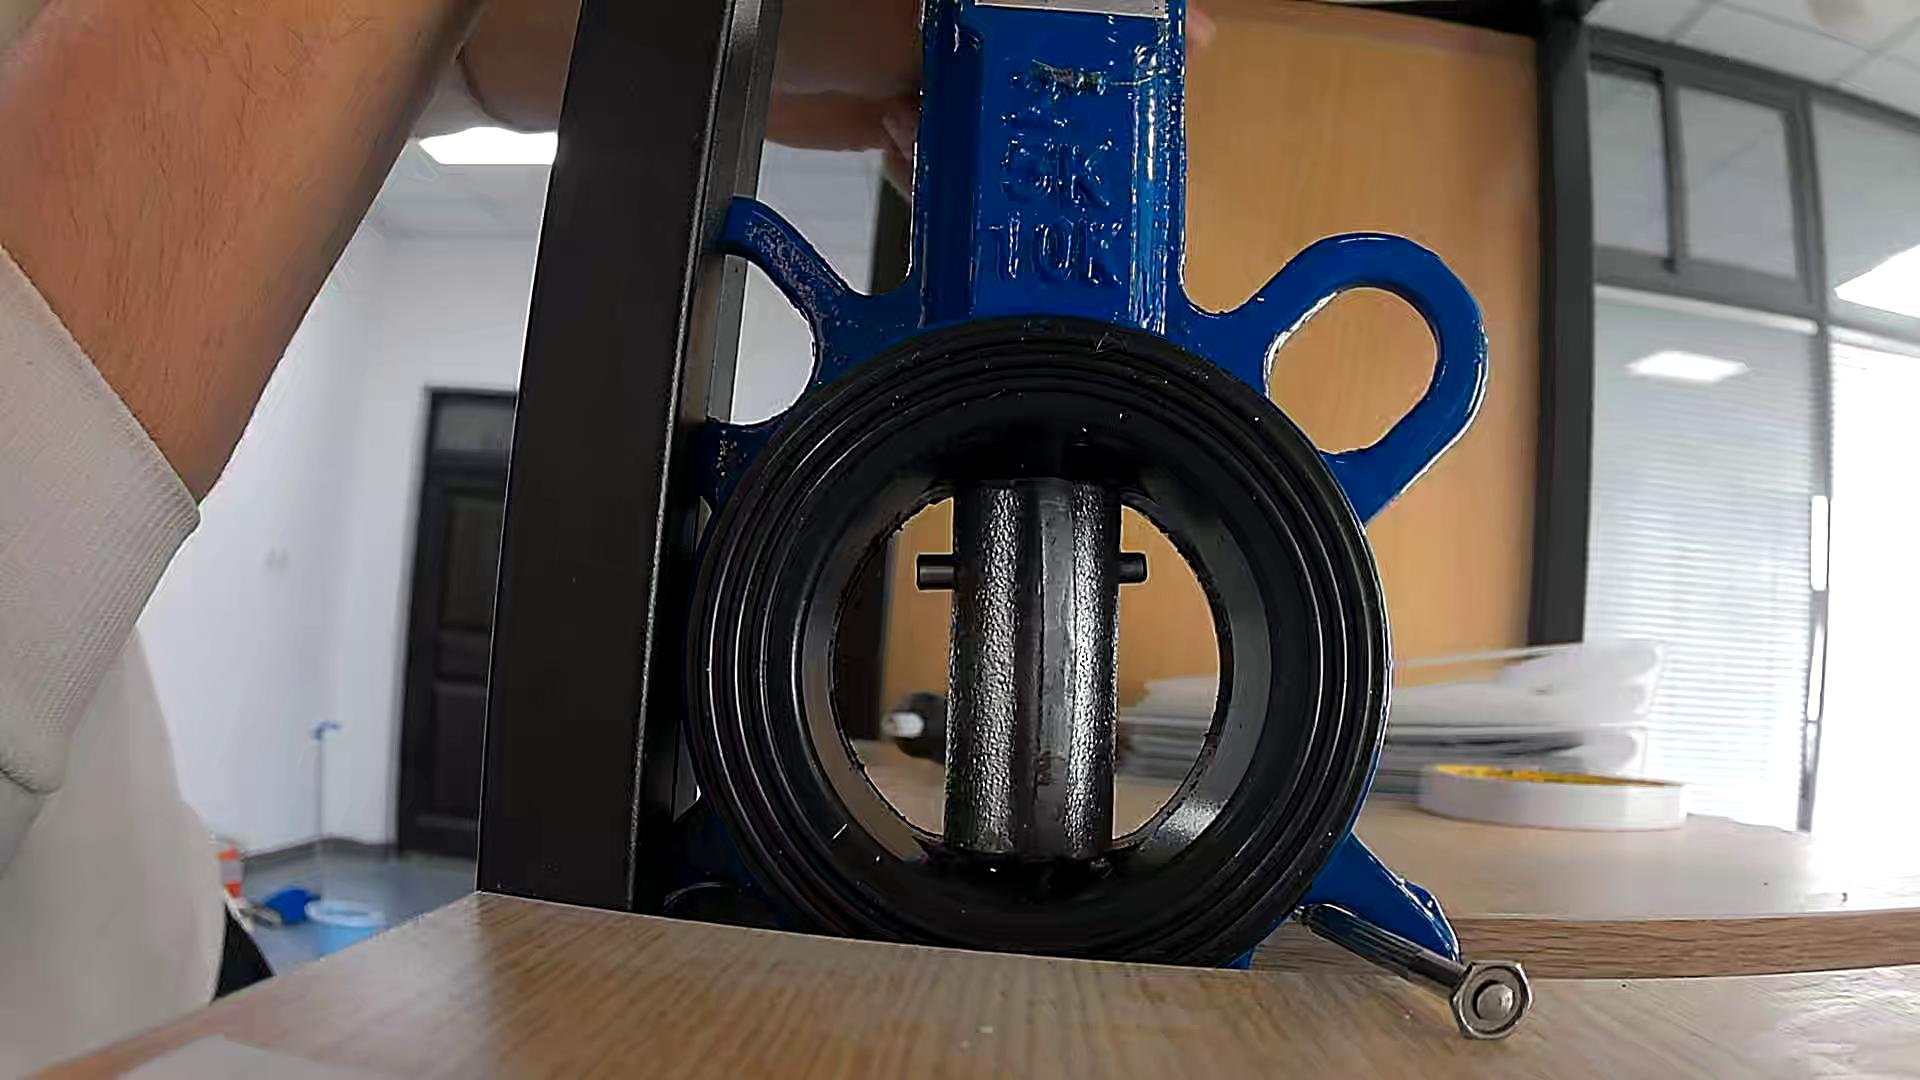valve: (920, 476, 1146, 858)
